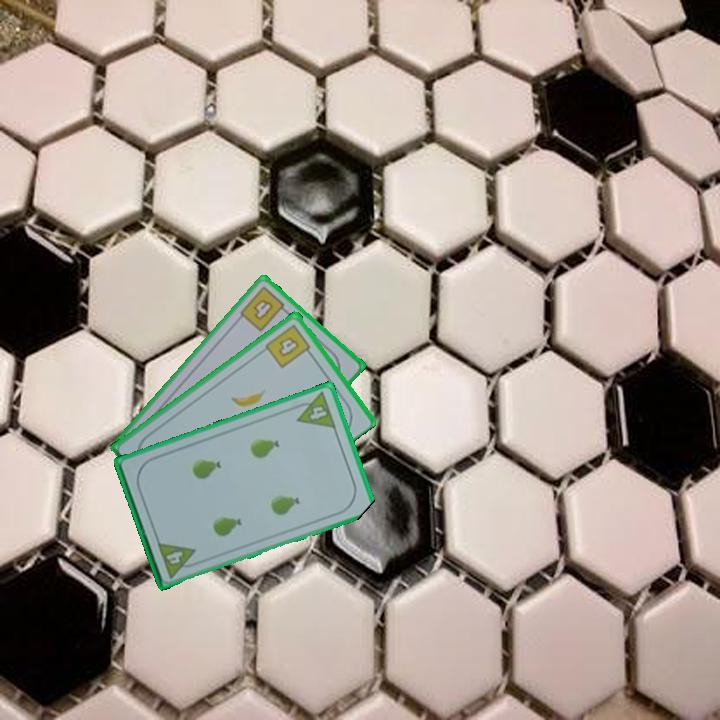4b: (236, 283, 292, 334), (262, 320, 315, 371)
4p: (289, 388, 339, 431), (154, 538, 202, 581)
